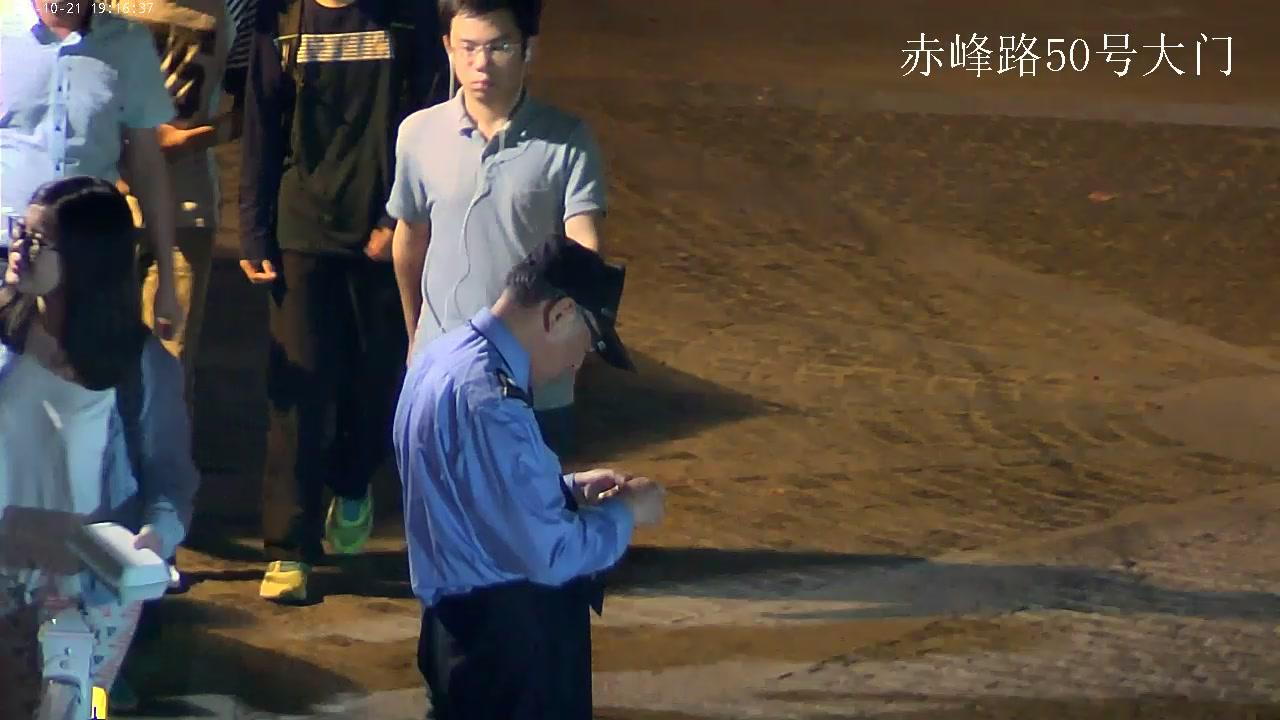face: (452, 12, 522, 103), (5, 205, 61, 292), (530, 326, 603, 382), (42, 0, 80, 12)
